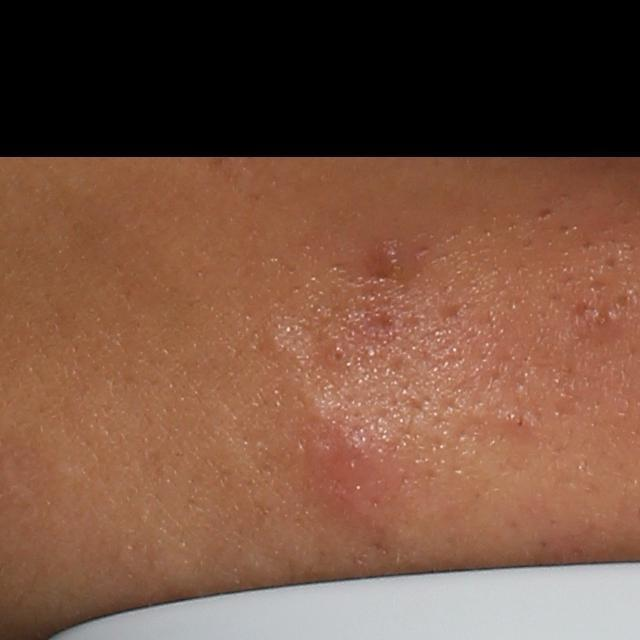atrophic_scar: (438, 298, 467, 331), (386, 353, 414, 381), (404, 396, 430, 420), (587, 275, 610, 295), (536, 207, 554, 222)
comedo: (326, 346, 347, 368)
nodule: (296, 398, 395, 521)
papule: (486, 404, 544, 443), (372, 237, 408, 278)
